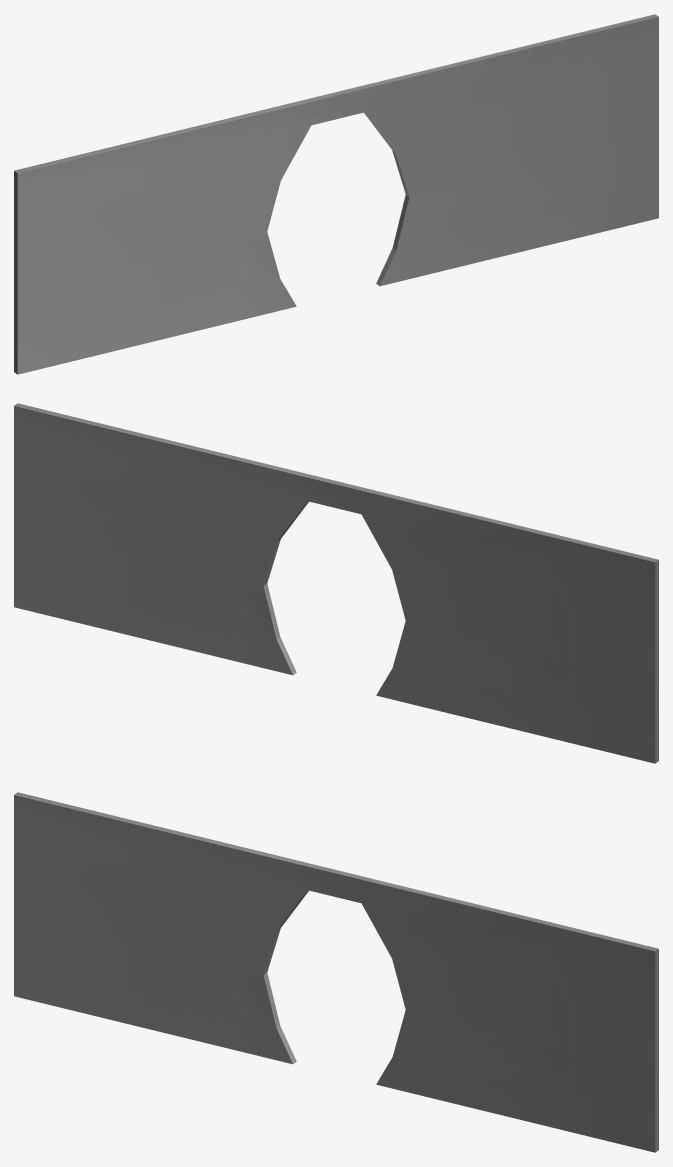
File: parerd hueco.fbx
3 views of the same model, one above another, from view 1: azimuth 30°, elevation 25°; view 2: azimuth 150°, elevation 25°; view 3: azimuth 330°, elevation 25° (orthographic).
Visible parts, largest first — view 1: Ajugero pincipio primer nivel; view 2: Ajugero pincipio primer nivel; view 3: Ajugero pincipio primer nivel.
Boxes of the visible parts, x1,y1,x2,y2 form: Ajugero pincipio primer nivel: [14, 14, 658, 374]; Ajugero pincipio primer nivel: [14, 403, 658, 763]; Ajugero pincipio primer nivel: [14, 792, 658, 1152].
Size of the model in its own units: 1000 by 300 by 10.
1 material, 1 textured.
